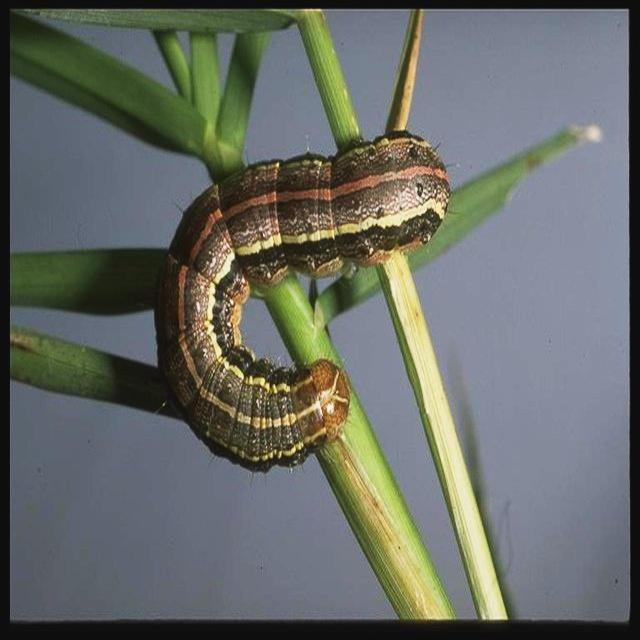gusano_cogollero: (152, 130, 454, 469)
